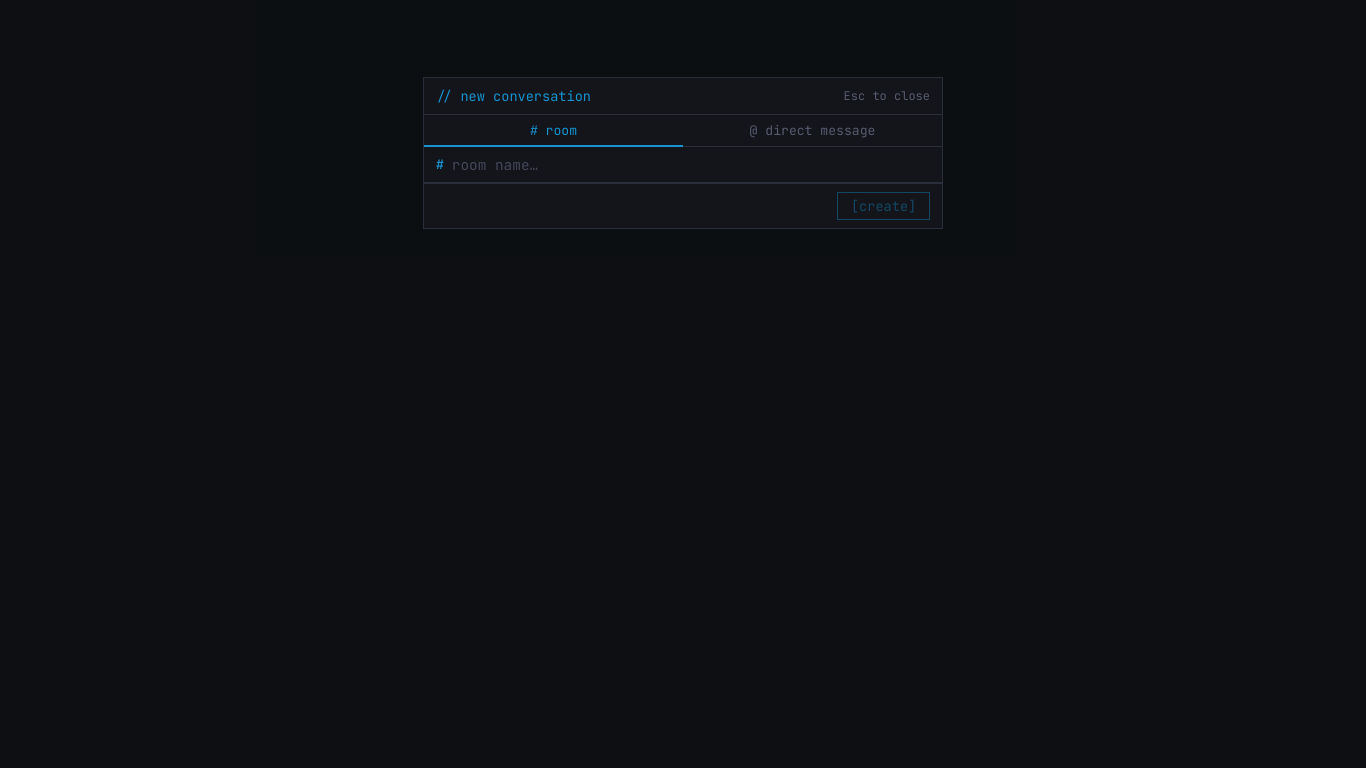
Test case: NewConversationDialog › shows validation error for invalid DM user ID format
The width and height of the screenshot is (1366, 768).
Click the tab "@ direct message" at point(812, 131), box [683,115,942,146]
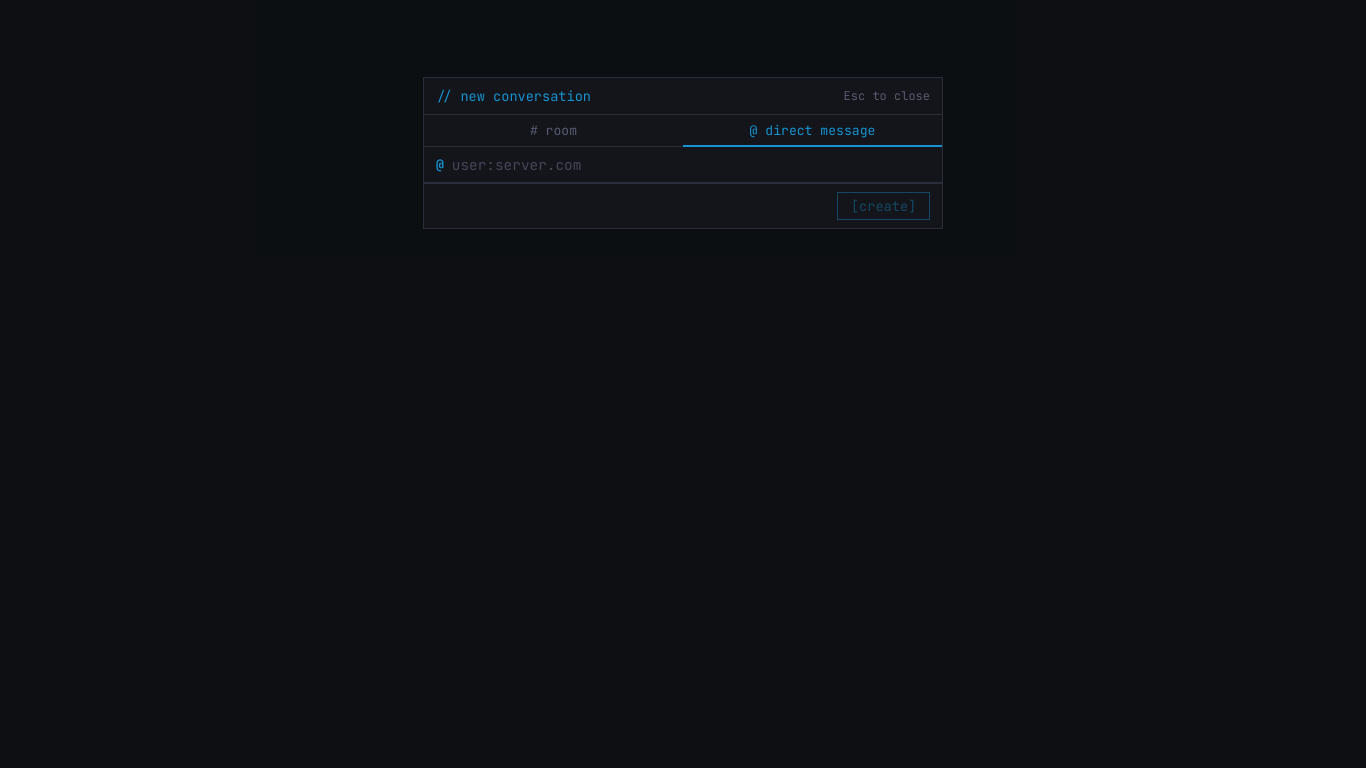
Type "notvalid" into the field with placeholder "user:server.com" at point(691, 165), box [452,155,930,174]
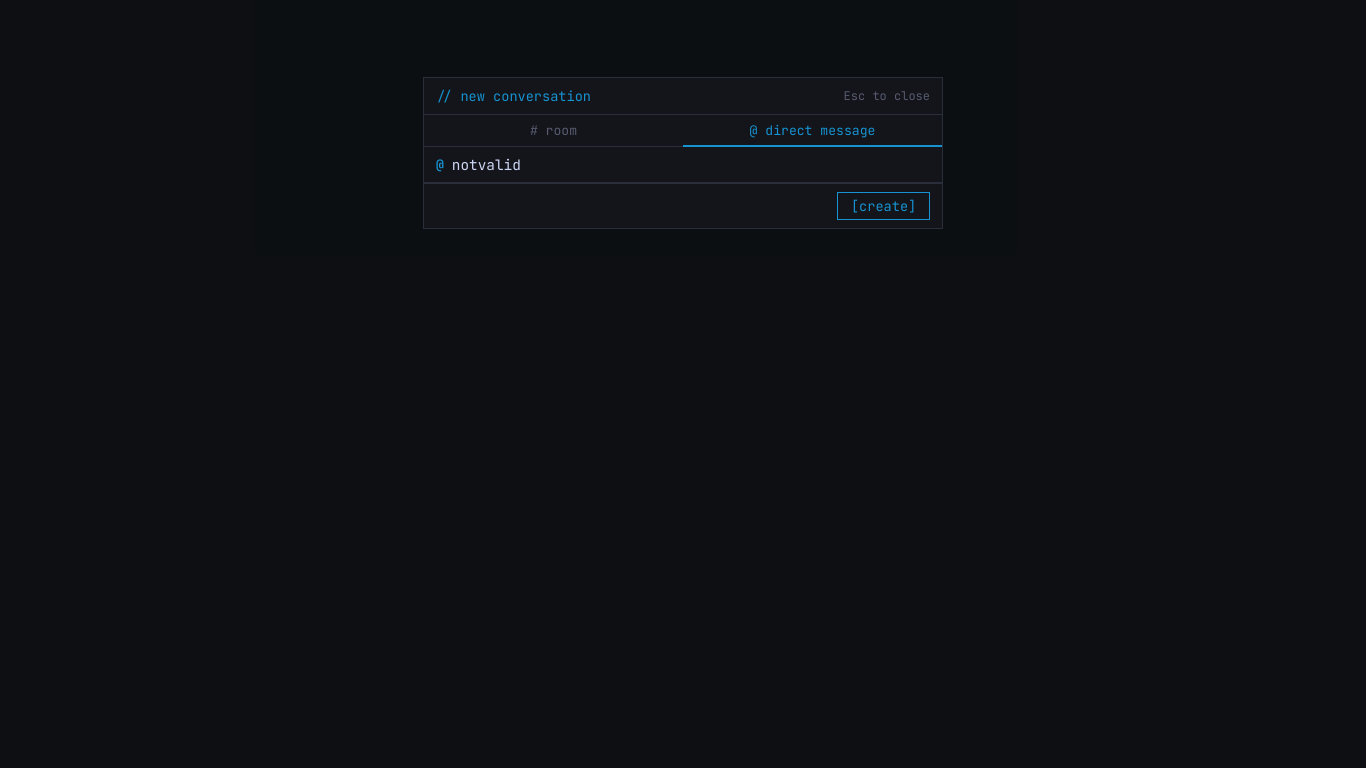
Click the button "[create]" at point(884, 206), box [837,192,930,220]
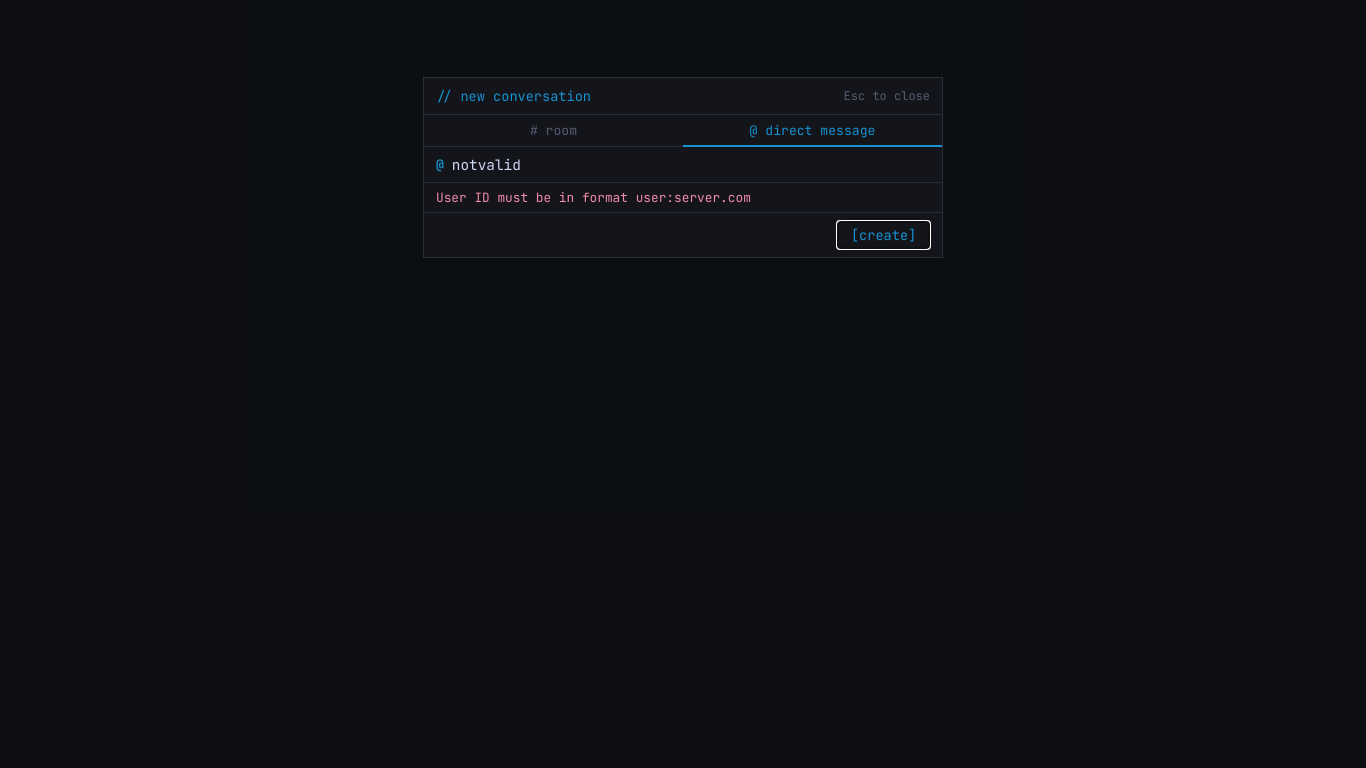
expect the text "User ID must be in format user:server.com" is shown: met, box [436,189,751,206]
